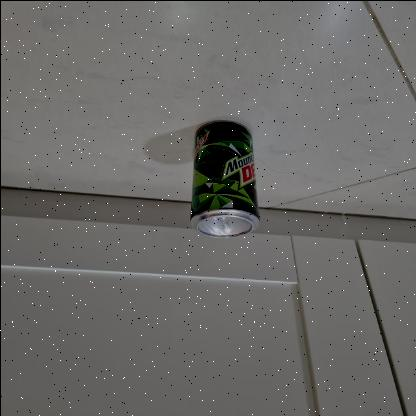Can: (188, 118, 266, 238)
